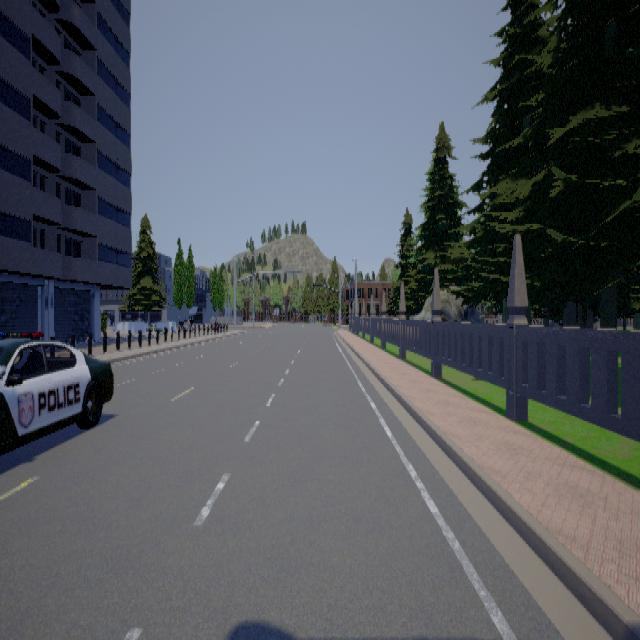vehicle: (0, 330, 113, 455)
